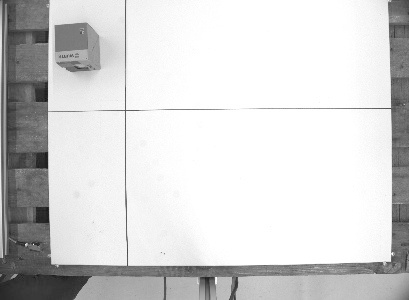b7: (51, 20, 102, 72)
